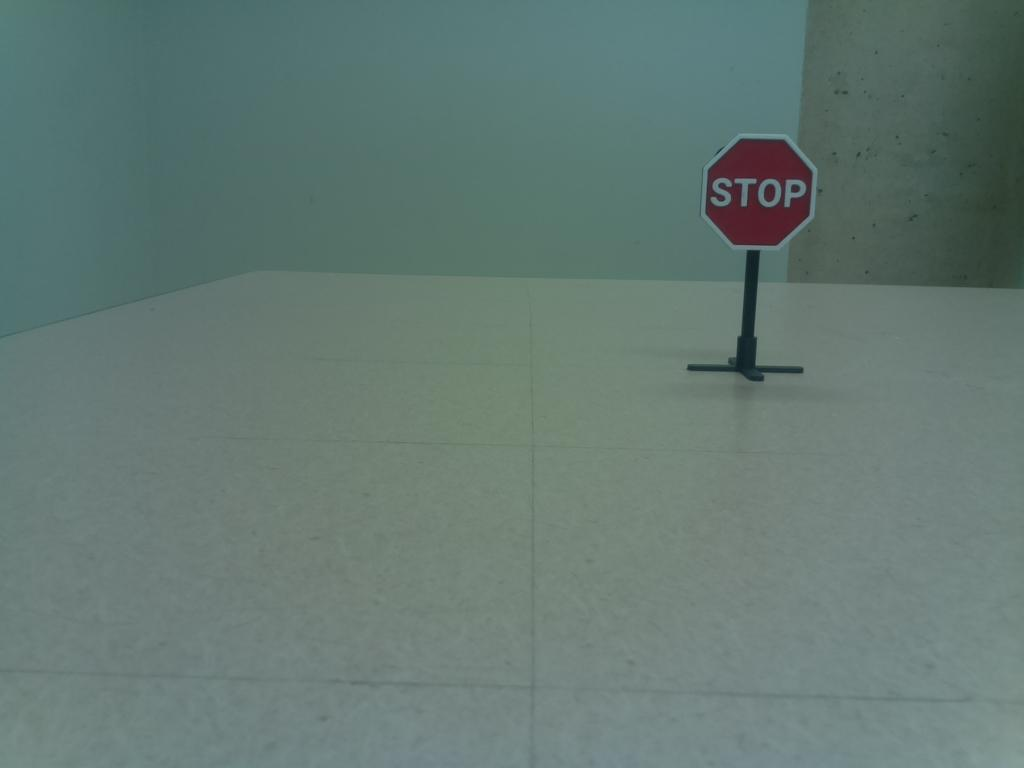sign_stop: (694, 127, 826, 251)
